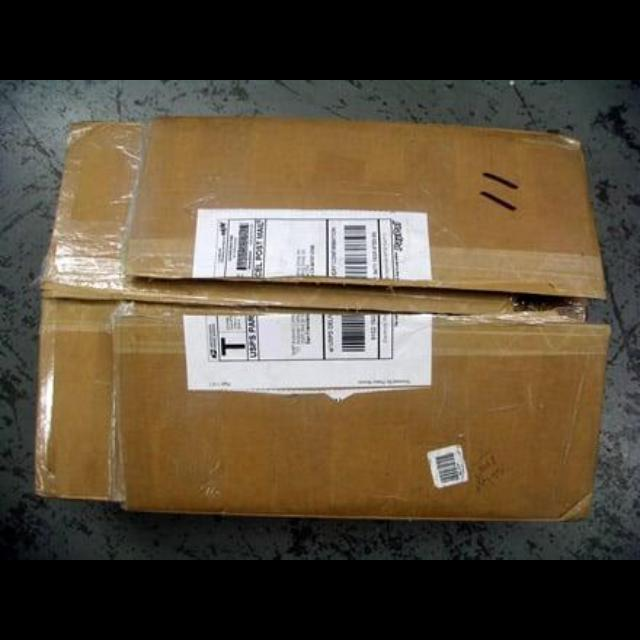papelão: (33, 116, 612, 524)
